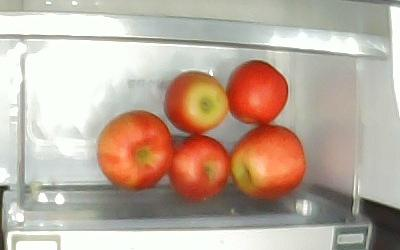apple: (96, 110, 173, 191), (231, 125, 306, 201), (163, 71, 229, 134), (225, 60, 288, 124), (170, 135, 230, 199)
